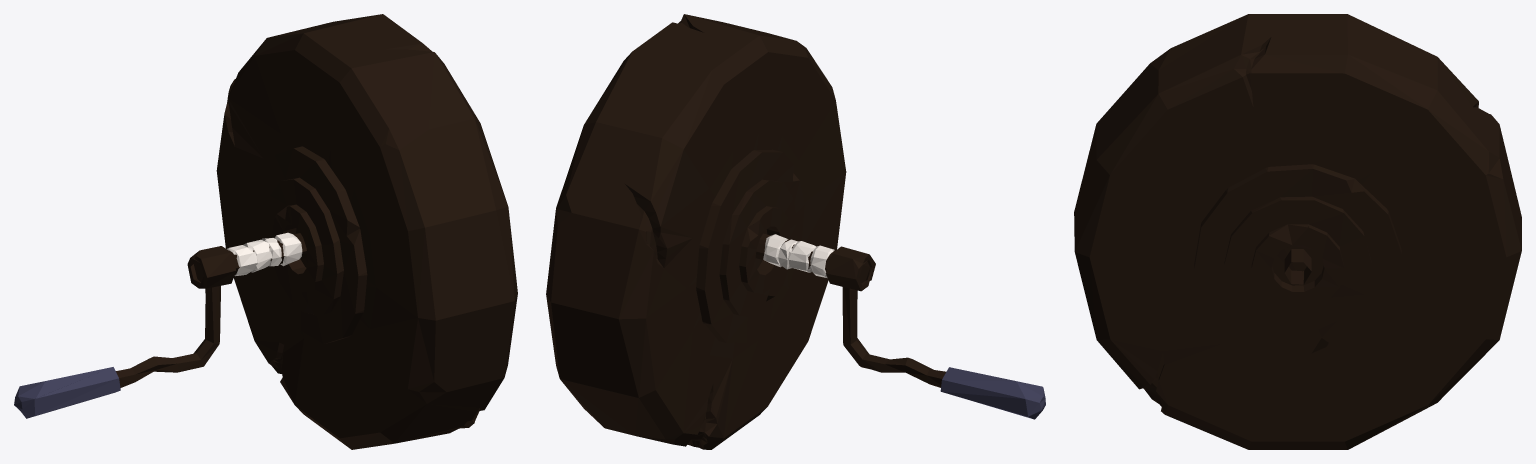
The model's file is SFFA_Grinding_Wheel.fbx.
3 views of the same model, side by side, from view 1: azimuth 30°, elevation 25°; view 2: azimuth 150°, elevation 25°; view 3: azimuth 270°, elevation 25° (orthographic). The views are drawn at different scales.
Parts seen in each view (by area): view 1: SFFA_Grinding_Wheel; view 2: SFFA_Grinding_Wheel; view 3: SFFA_Grinding_Wheel.
Boxes of the visible parts, x1=… form: SFFA_Grinding_Wheel: x1=14, y1=14, x2=517, y2=449; SFFA_Grinding_Wheel: x1=546, y1=14, x2=1045, y2=449; SFFA_Grinding_Wheel: x1=1074, y1=14, x2=1521, y2=449.
Bounding box in the file's own units: 90.71 × 75.76 × 77.7.
